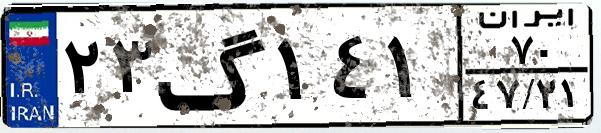0: (537, 27, 568, 80)
1: (270, 28, 330, 110), (385, 28, 445, 110), (560, 70, 590, 125)
2: (57, 26, 110, 100), (535, 70, 560, 125)
3: (110, 28, 156, 98)
4: (330, 28, 385, 110), (470, 70, 495, 125)
7: (508, 27, 537, 80), (495, 70, 520, 125)
گ: (156, 12, 270, 120)
